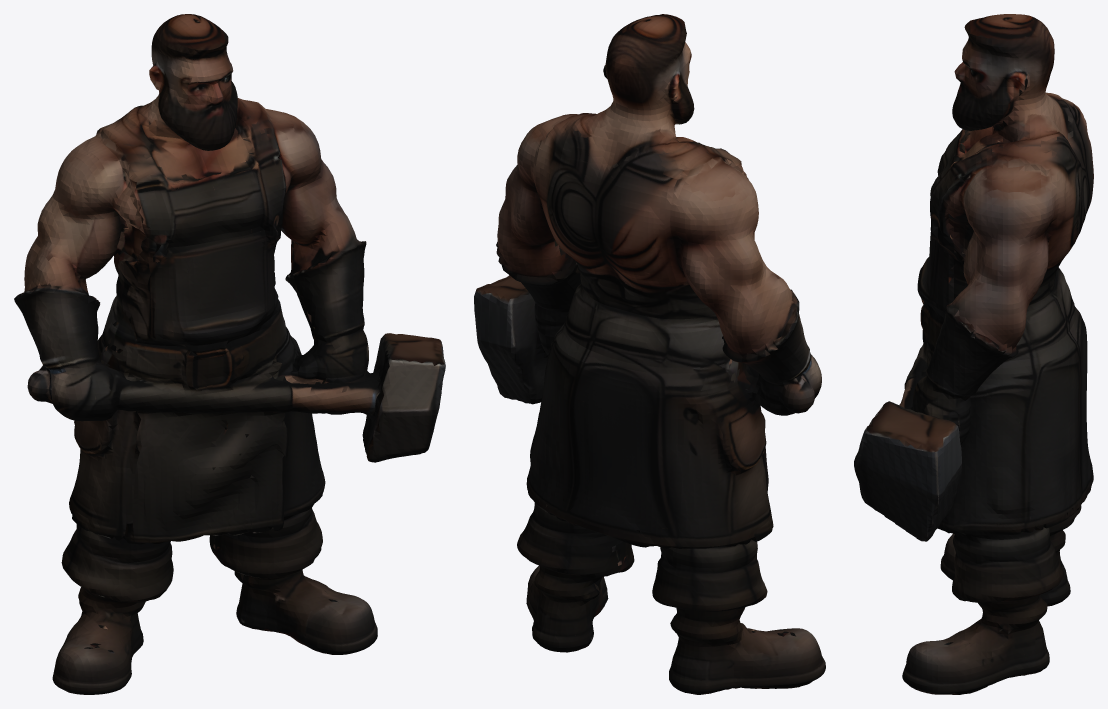
File: body.glb
3 views of the same model, side by side, from view 1: azimuth 30°, elevation 25°; view 2: azimuth 150°, elevation 25°; view 3: azimuth 270°, elevation 25° (orthographic). The views are drawn at different scales.
Parts seen in each view (by area): view 1: geometry_0; view 2: geometry_0; view 3: geometry_0.
Boxes of the visible parts, box(x1,y1,x2,y2) form: geometry_0: box(14, 14, 445, 694); geometry_0: box(474, 14, 825, 694); geometry_0: box(854, 14, 1093, 694).
Bounding box in the file's own units: 1.22 × 1.96 × 0.6933.
1 material, 1 textured.
